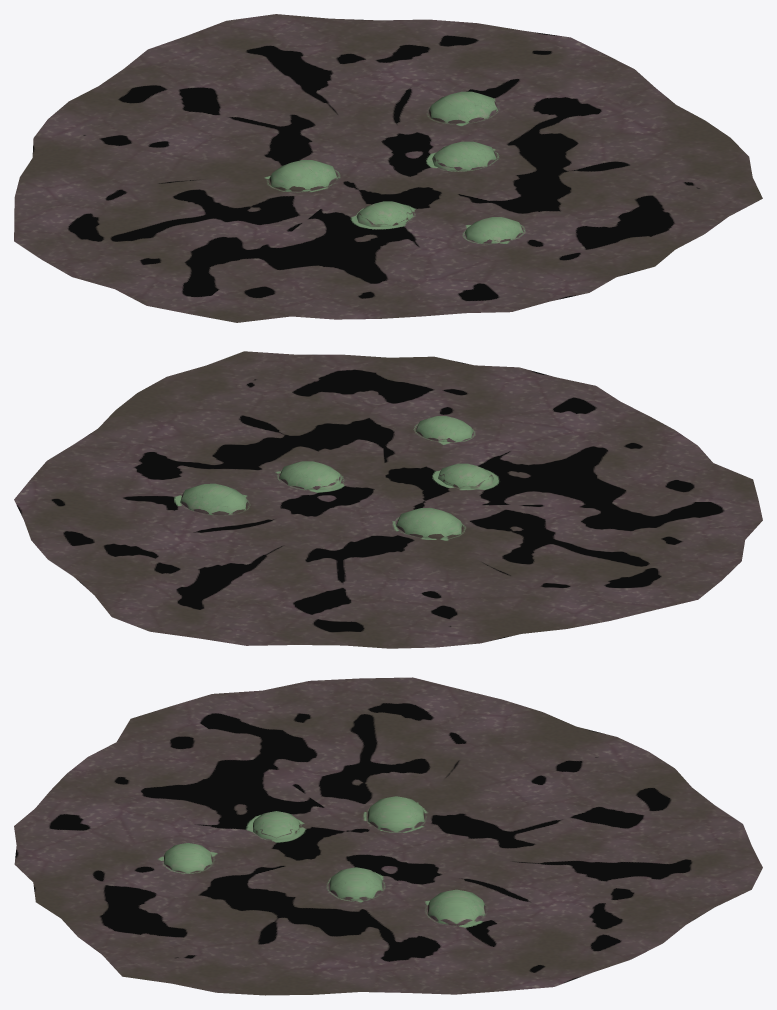
File: SM_Flora_CorruptPatch.fbx
The picture shows the model from 3 angles, top to bottom: view 1: azimuth 30°, elevation 25°; view 2: azimuth 150°, elevation 25°; view 3: azimuth 270°, elevation 25°; orthographic projection. The views are drawn at different scales.
Visible parts, largest first — view 1: SM_Flora_CorruptPatch; view 2: SM_Flora_CorruptPatch; view 3: SM_Flora_CorruptPatch.
Part boxes in pixels (<box>): SM_Flora_CorruptPatch: <box>14,14,762,322</box>; SM_Flora_CorruptPatch: <box>14,351,762,648</box>; SM_Flora_CorruptPatch: <box>14,677,762,995</box>.
Bounding box in the file's own units: 207 × 206 × 10.88.
